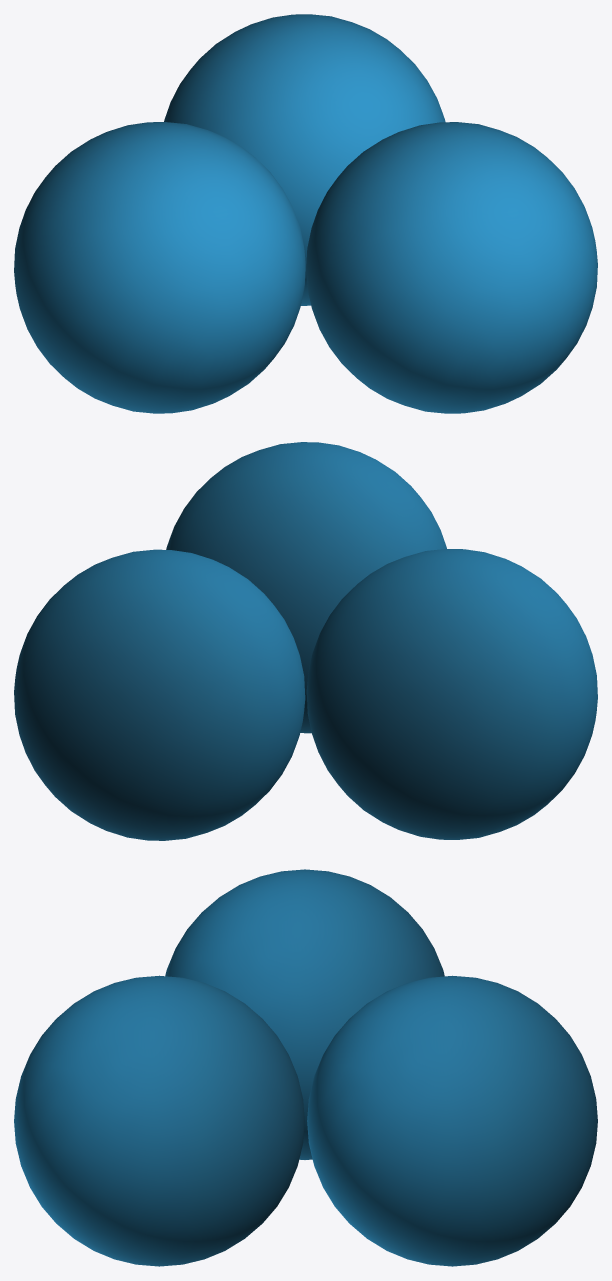
The model's file is solid_state_qn_017.glb.
3 views of the same model, one above another, from view 1: azimuth 30°, elevation 25°; view 2: azimuth 150°, elevation 25°; view 3: azimuth 270°, elevation 25° (orthographic).
Parts seen in each view (by area): view 1: Icosphere.001, Icosphere.002, Icosphere; view 2: Icosphere, Icosphere.002, Icosphere.001; view 3: Icosphere, Icosphere.001, Icosphere.002.
Part boxes in pixels (x1=…): Icosphere.001: x1=306, y1=122, x2=597, y2=413; Icosphere.002: x1=14, y1=122, x2=305, y2=413; Icosphere: x1=164, y1=14, x2=445, y2=305; Icosphere: x1=14, y1=549, x2=305, y2=840; Icosphere.002: x1=306, y1=549, x2=597, y2=839; Icosphere.001: x1=166, y1=442, x2=446, y2=733; Icosphere: x1=307, y1=975, x2=597, y2=1266; Icosphere.001: x1=14, y1=975, x2=304, y2=1266; Icosphere.002: x1=165, y1=869, x2=444, y2=1159.
Bounding box in the file's own units: 3.73 × 2 × 4.02.
Materials: 3 (3 with a texture image).
